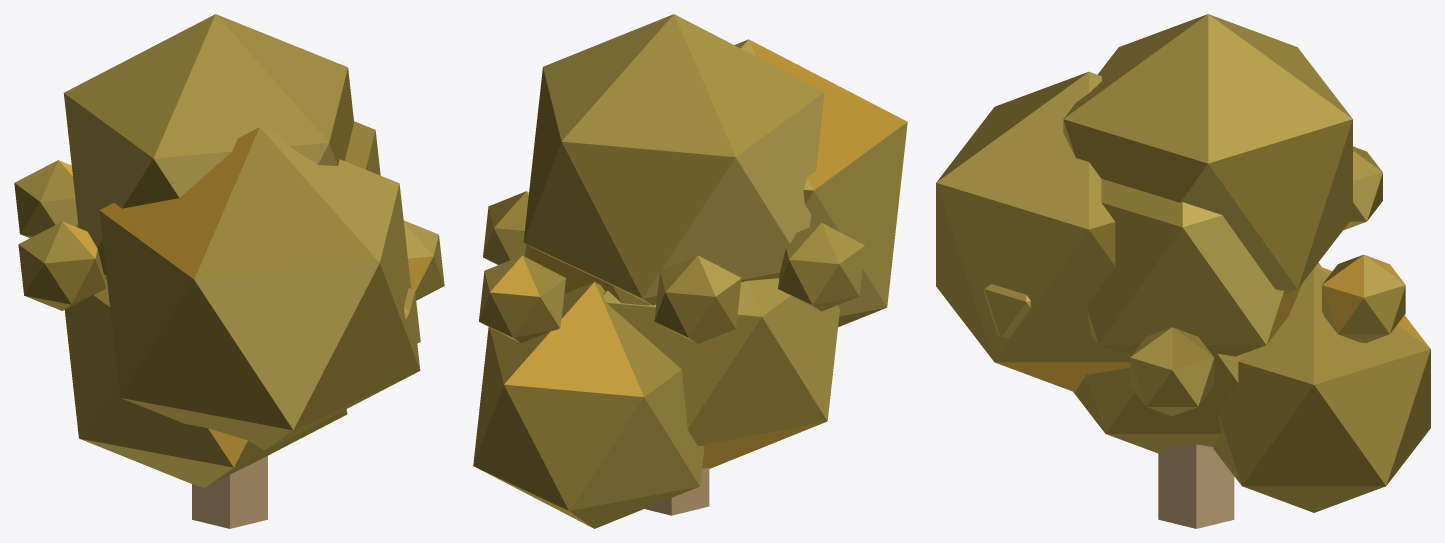
Rendered from Plant_Berry_c.fbx.
3 renders of one model, left to right at view 1: azimuth 30°, elevation 25°; view 2: azimuth 150°, elevation 25°; view 3: azimuth 270°, elevation 25°, orthographic.
Visible parts, largest first — view 1: Plant_Berry_c; view 2: Plant_Berry_c; view 3: Plant_Berry_c.
Part boxes in pixels (box(x1,y1,x2,y2)): Plant_Berry_c: box(14, 14, 444, 528); Plant_Berry_c: box(473, 14, 907, 528); Plant_Berry_c: box(936, 14, 1430, 528).
Size of what is drawn, in the model's own units: 0.4144 by 0.4957 by 0.4513.
